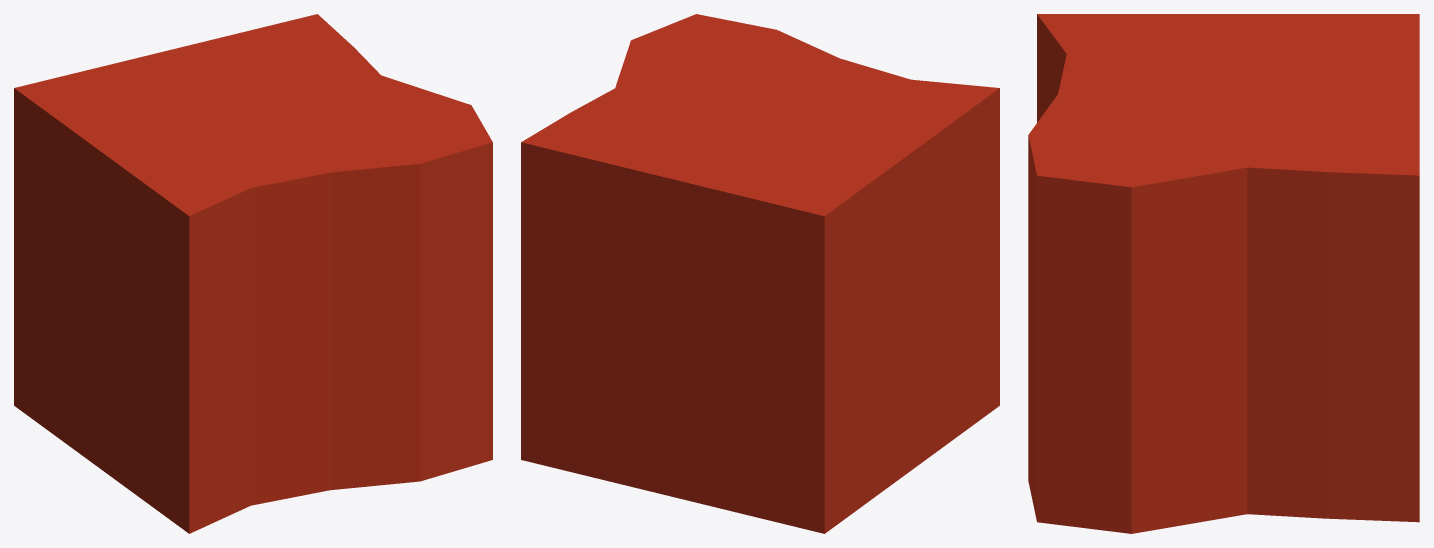
The model's file is rock_corner_in_2.glb.
3 views of the same model, side by side, from view 1: azimuth 30°, elevation 25°; view 2: azimuth 150°, elevation 25°; view 3: azimuth 270°, elevation 25° (orthographic). The views are drawn at different scales.
Visible parts, largest first — view 1: rock_corner_in_2; view 2: rock_corner_in_2; view 3: rock_corner_in_2.
Part boxes in pixels (left/top/right/bottom): rock_corner_in_2: left=14, top=14, right=492, bottom=533; rock_corner_in_2: left=521, top=14, right=999, bottom=533; rock_corner_in_2: left=1028, top=14, right=1419, bottom=533.
Size of the model in its own units: 2.15 by 2 by 2.05.
